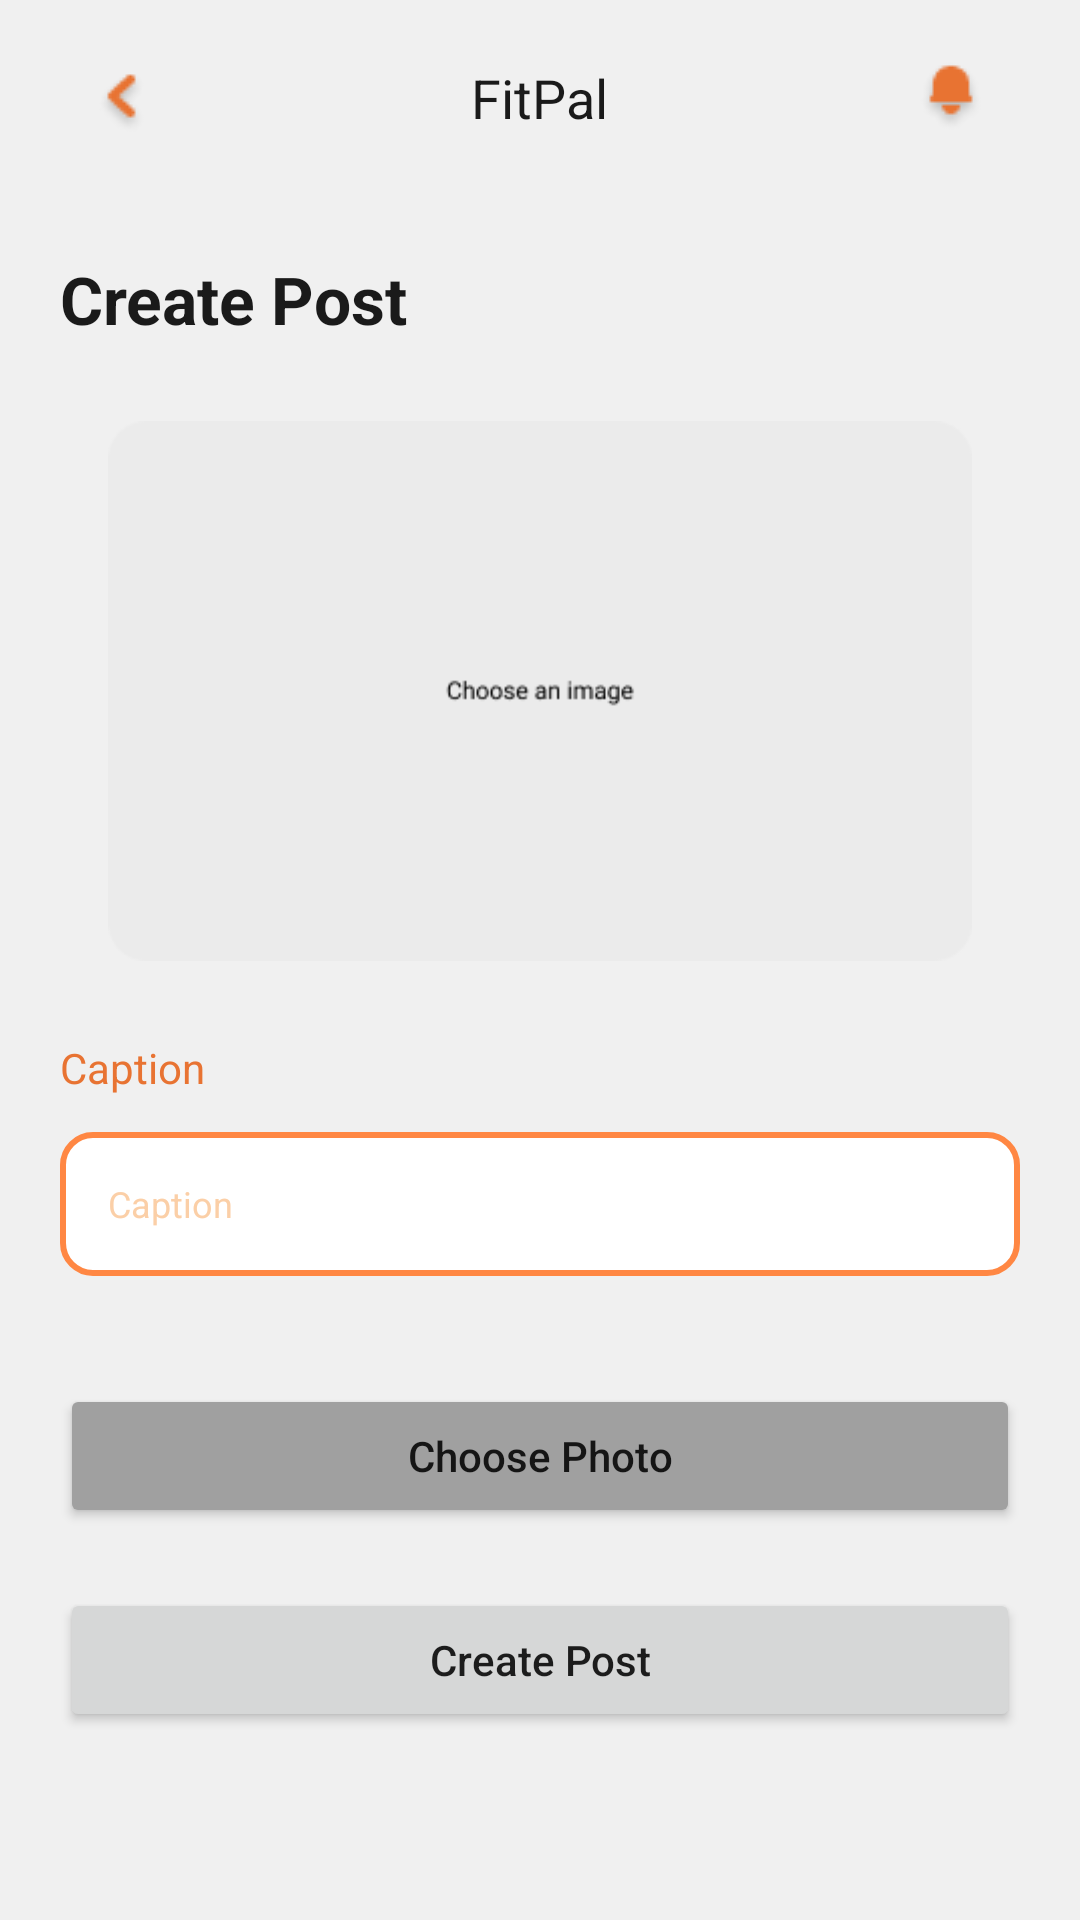

Where icons sit on this 1080x1920 app screen, as (x1, y1, x2, y2):
Back: (107, 74, 136, 120)
Notify: (929, 65, 973, 118)
